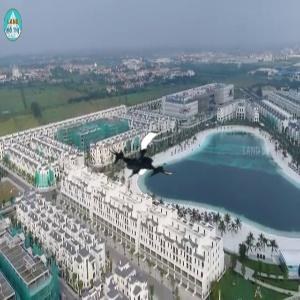drone: (110, 126, 177, 193)
